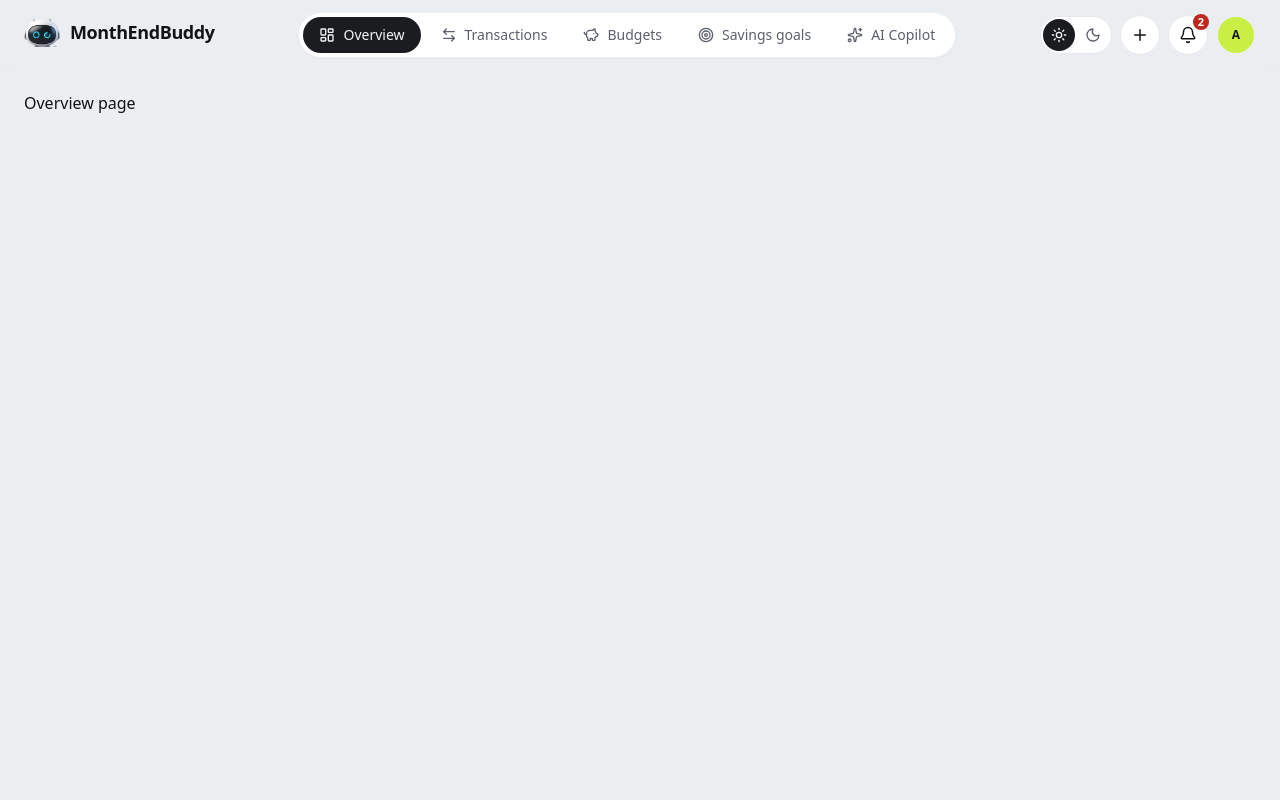
Test: AppShell › closes a panel when one of its links navigates
Click the button named "Asha, your account" at (1236, 35), box [1216, 15, 1256, 55]
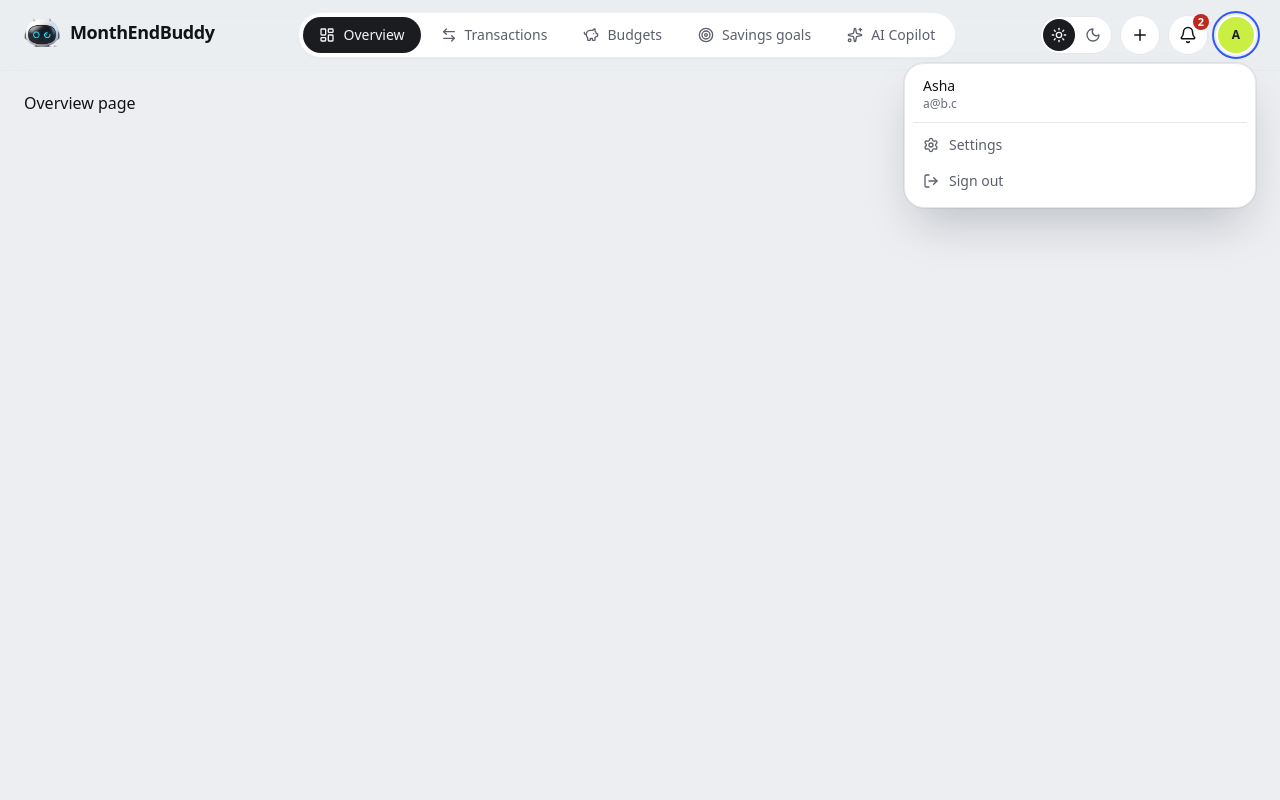
Click the link "Settings" at (963, 144), box [923, 135, 1002, 154]
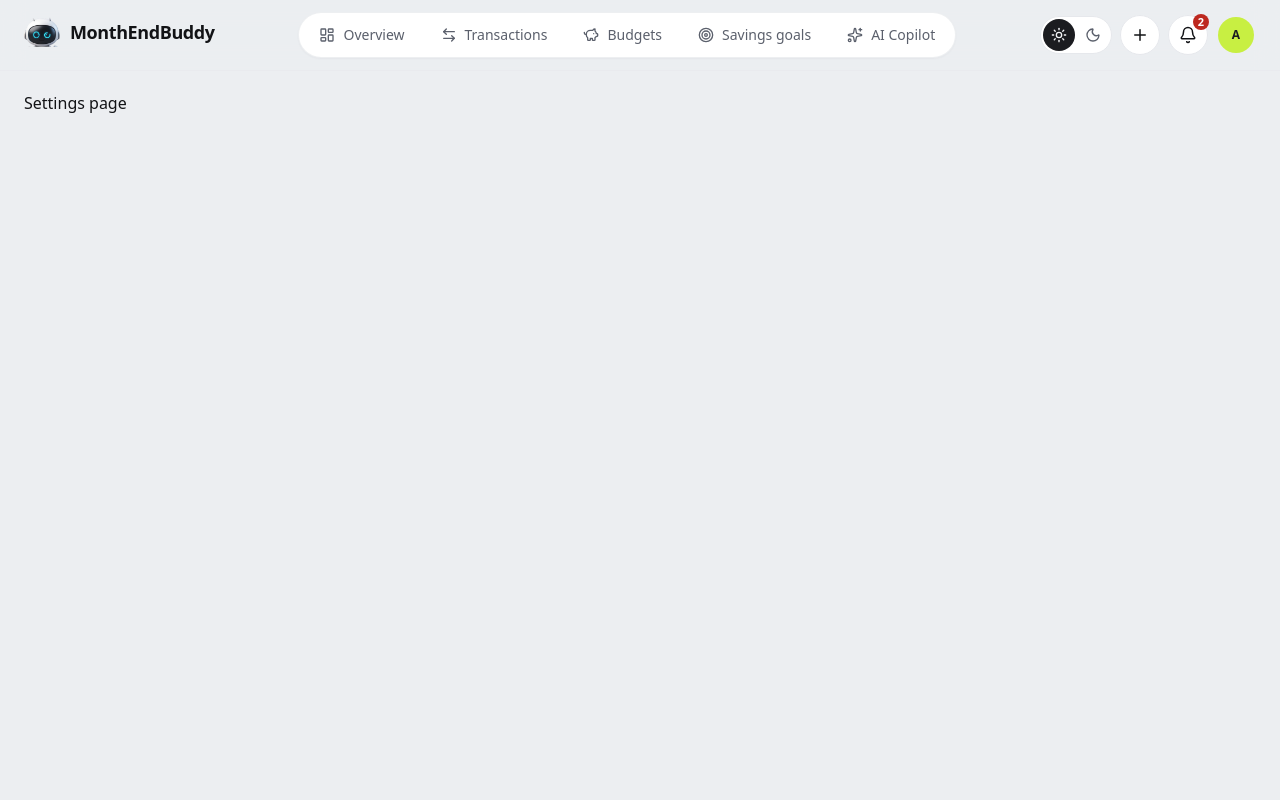
Result: the text "Settings page" is shown at [24, 92, 127, 114]
